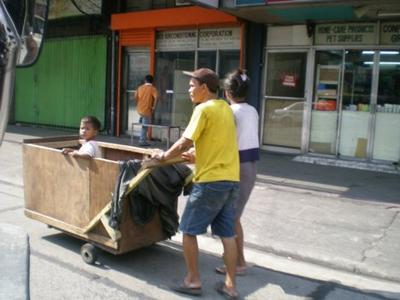person: (150, 63, 245, 299)
